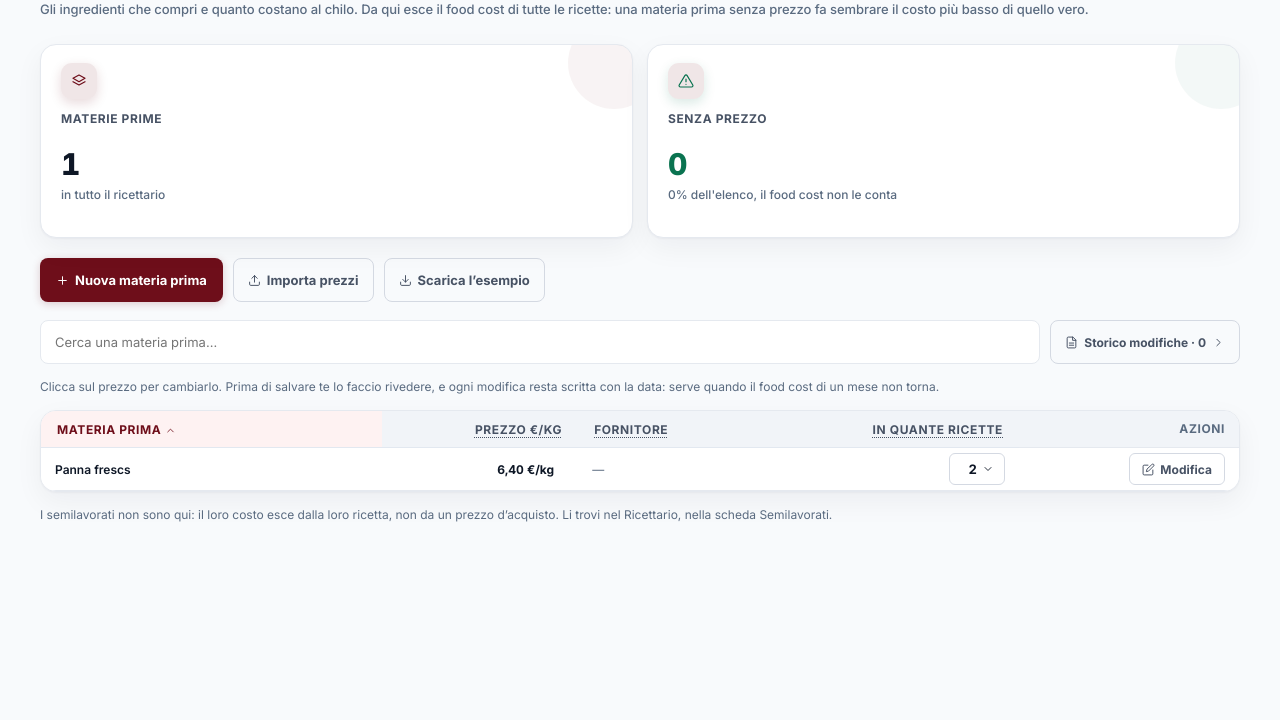
la finestra del cambio nome › dice quante ricette verranno riscritte prima di toccarle
The image size is (1280, 720).
Click the button "Modifica" at (1177, 469), box [1129,453,1225,485]
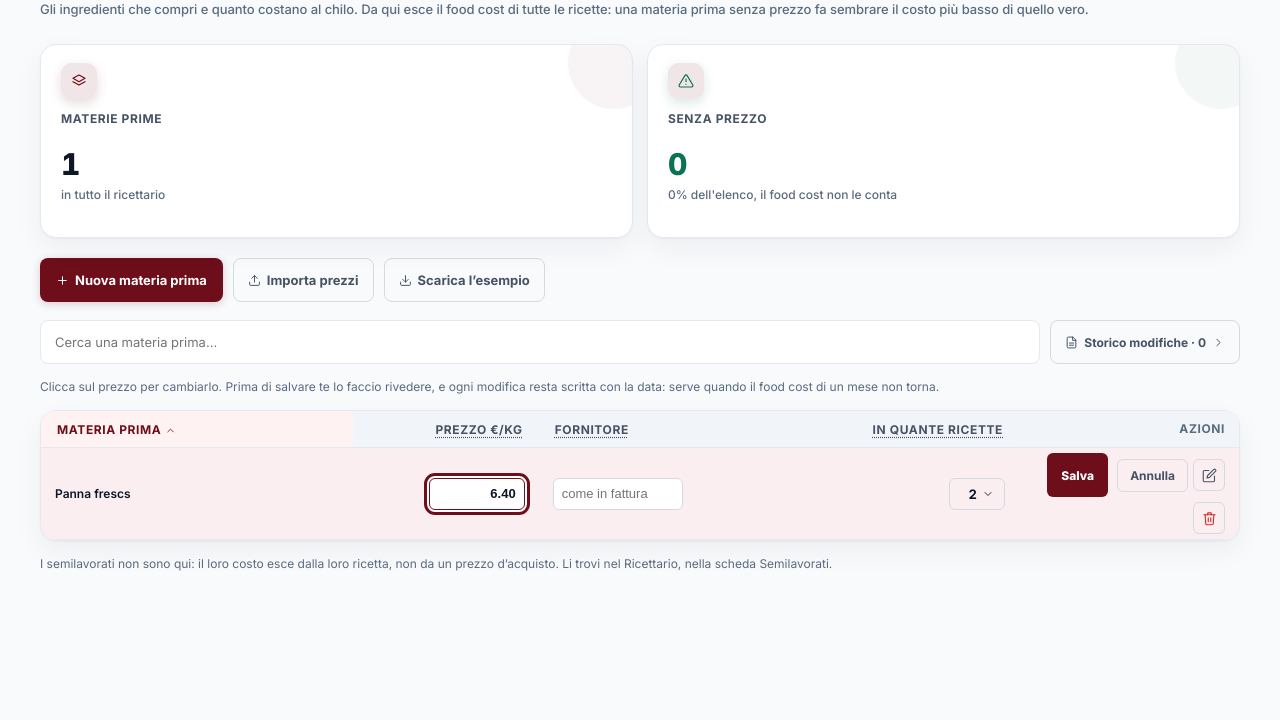
Now the button named "Cambia il nome di panna frescs" is shown
Click the button named "Cambia il nome di panna frescs" at (1209, 475), box [1193,459,1225,491]
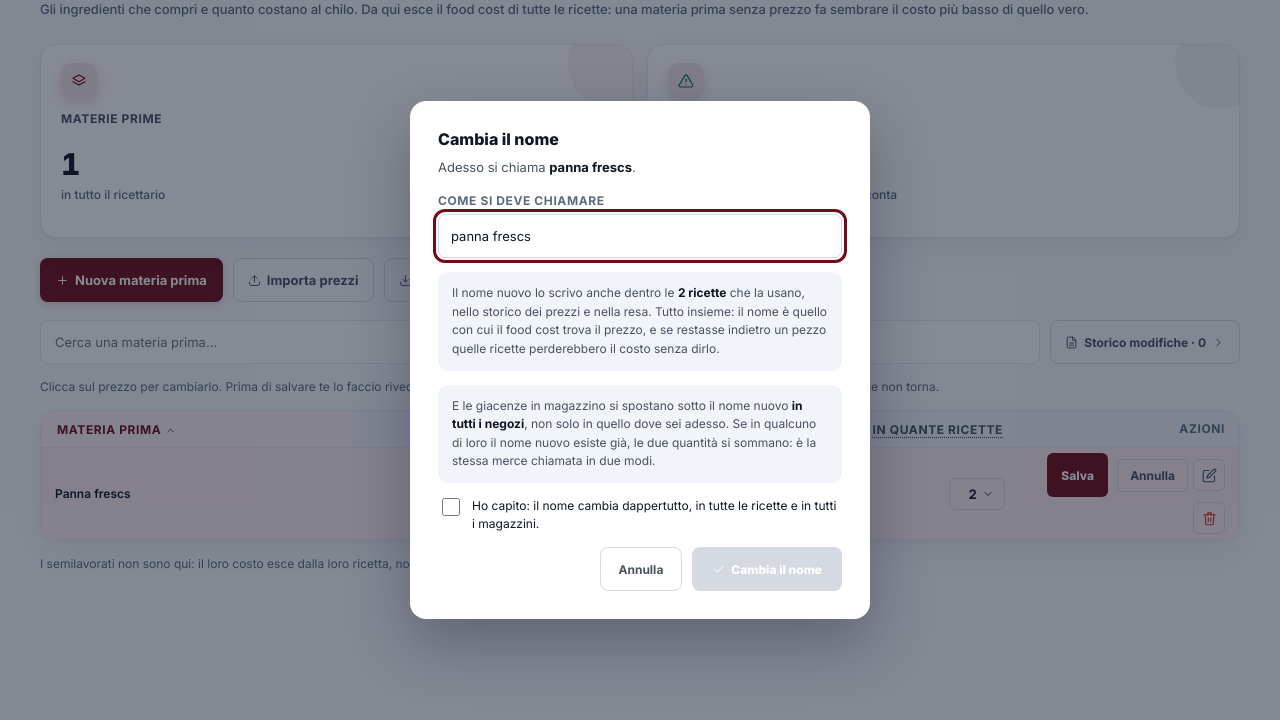
Now the field labelled "Come si deve chiamare" is shown, box [438,214,842,258]
Now the dialog shows "2 ricette"
